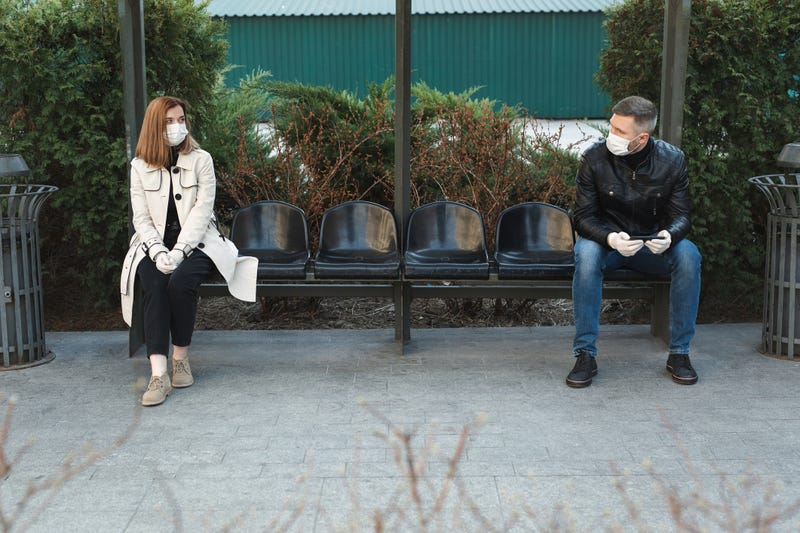with_mask: (603, 110, 657, 156), (148, 101, 193, 148)
